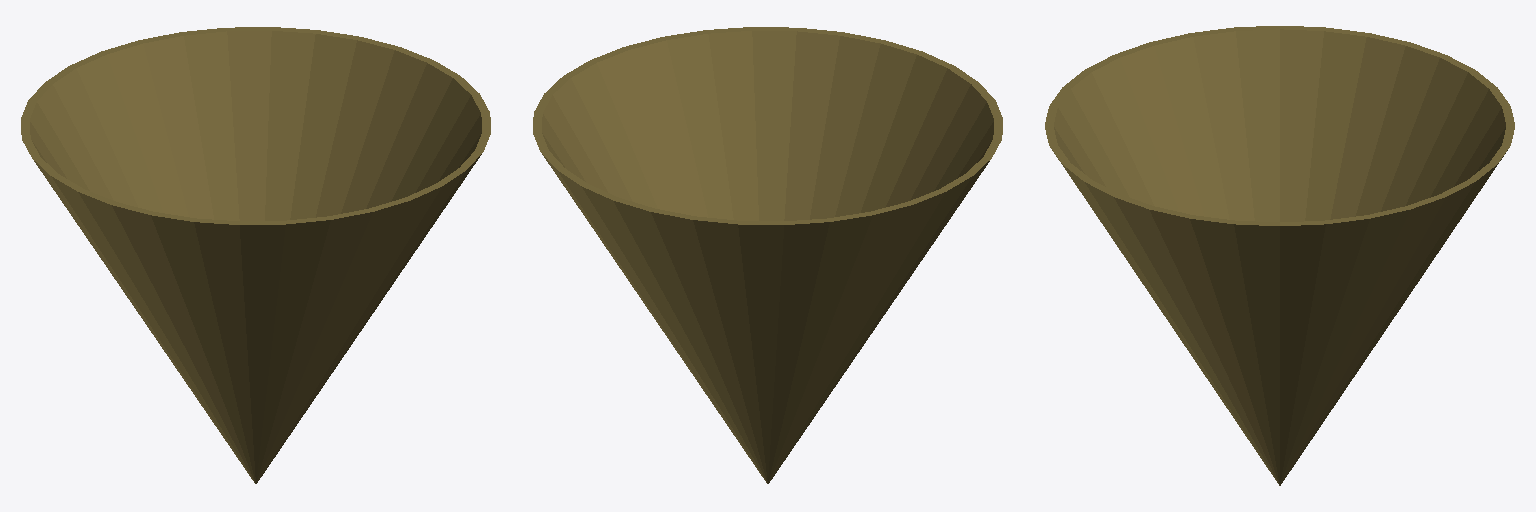
The robot description file, URDF, robot "object":
<?xml version="1.0"?>
<robot name="object">
  <link name="base_link"> <!-- required name-->
    <inertial>
      <origin xyz="0 0 0" /> 
      <mass value="1.0" />
      <inertia  ixx="1.0" ixy="0.0"  ixz="0.0"  iyy="1.0"  iyz="0.0"  izz="1.0" />
    </inertial>
    <visual>
      <origin xyz="0 0 0"/>
      <geometry>
        <!-- cone06 is slightly larger than a cone defined for mu = 0.6 -->
        <mesh filename="package://hpp-rbprm-corba/meshes/cones/cone06.dae"/>
      </geometry>
    </visual>
  </link>
</robot>

--- Facts derived from the render (not from the file) ---
The picture shows the robot from 3 angles, left to right: view 1: azimuth 30°, elevation 25°; view 2: azimuth 150°, elevation 25°; view 3: azimuth 270°, elevation 25°; orthographic projection.
Robot: object — 1 links, 0 joints (none); root link base_link; default pose: every joint at zero.
Links seen in each view (by area): view 1: base_link; view 2: base_link; view 3: base_link.
Link boxes in pixels (bbox=[...]): base_link: bbox=[21, 27, 490, 483]; base_link: bbox=[533, 27, 1002, 483]; base_link: bbox=[1045, 26, 1514, 485].
Bounding box of the posed robot: 0.4671 × 0.4629 × 0.391 m (x, y, z).
1 mesh visuals loaded from 1 distinct referenced files (1 Collada DAE).